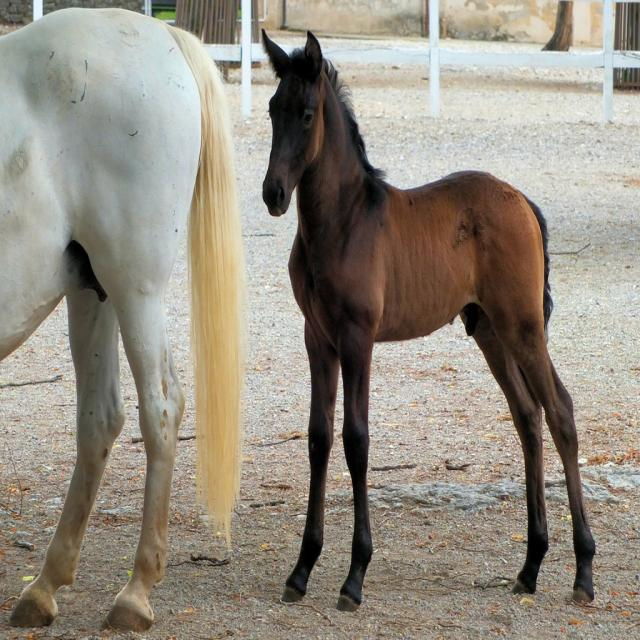Horse: (258, 31, 596, 605), (0, 3, 249, 636)
